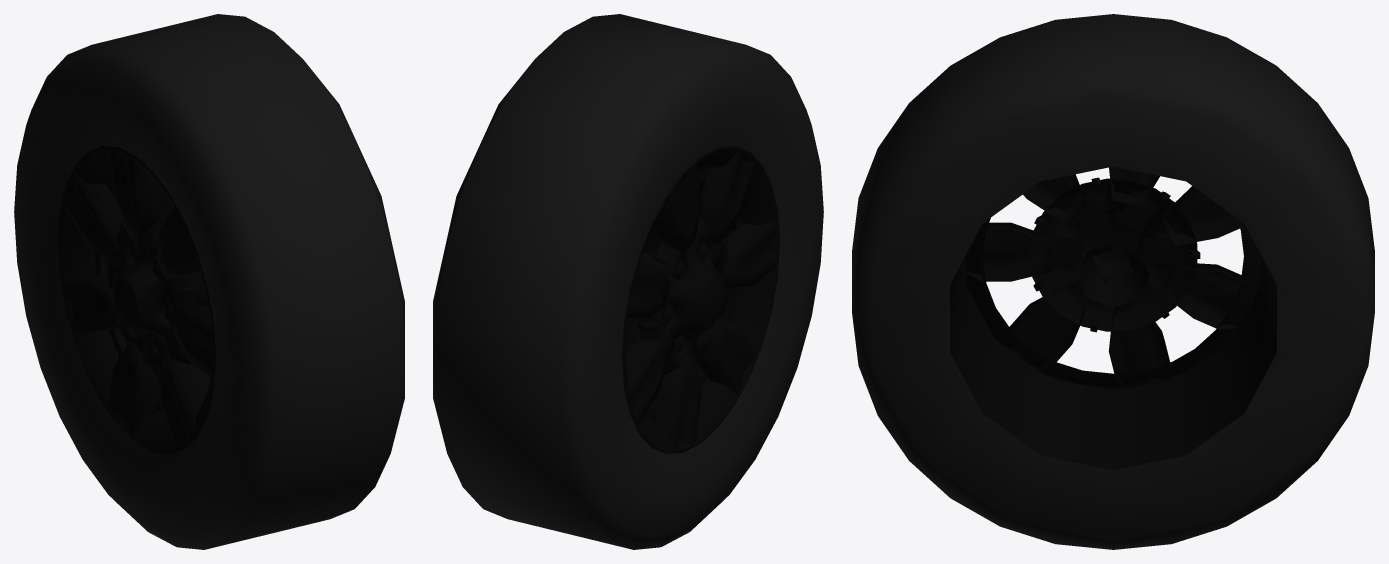
The model's file is ford_f150_wheelhigh.obj.
3 views of the same model, side by side, from view 1: azimuth 30°, elevation 25°; view 2: azimuth 150°, elevation 25°; view 3: azimuth 270°, elevation 25° (orthographic).
Parts seen in each view (by area): view 1: ford_f150_wheelhigh_ford_f150_wheel; view 2: ford_f150_wheelhigh_ford_f150_wheel; view 3: ford_f150_wheelhigh_ford_f150_wheel.
Boxes of the visible parts, x1,y1,x2,y2 form: ford_f150_wheelhigh_ford_f150_wheel: [14, 14, 404, 549]; ford_f150_wheelhigh_ford_f150_wheel: [433, 14, 823, 549]; ford_f150_wheelhigh_ford_f150_wheel: [852, 14, 1374, 549].
Size of the model in its own units: 0.2956 by 0.7879 by 0.7879.
